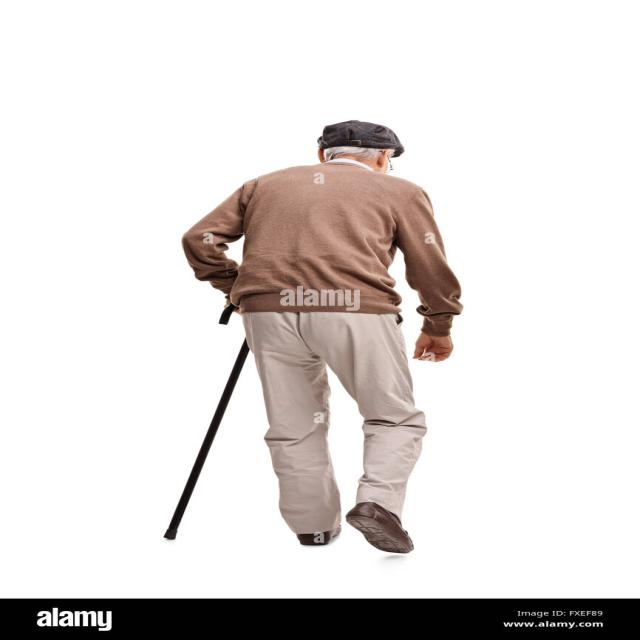idoso em pe: (181, 118, 484, 561)
